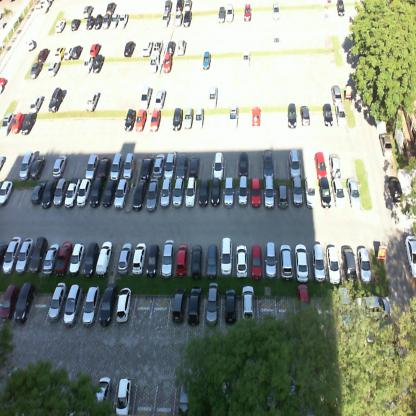car: (354, 294, 390, 320), (61, 289, 86, 326), (80, 287, 102, 325), (46, 290, 69, 326), (96, 288, 118, 324), (336, 286, 353, 332), (94, 375, 113, 414), (354, 240, 374, 277), (114, 289, 136, 322), (168, 291, 189, 325), (13, 289, 36, 320), (145, 240, 165, 275), (324, 242, 342, 280), (202, 293, 221, 329), (16, 235, 34, 273), (3, 235, 20, 275), (0, 284, 18, 320), (28, 236, 46, 272), (41, 239, 60, 273), (68, 240, 87, 274), (115, 377, 132, 415), (76, 176, 94, 210), (144, 177, 162, 211), (293, 243, 311, 277), (53, 241, 72, 273), (187, 292, 204, 327), (82, 240, 100, 273), (40, 176, 58, 209), (340, 241, 356, 278), (296, 284, 311, 323), (88, 174, 105, 208), (278, 244, 295, 278), (310, 242, 326, 278), (178, 372, 191, 416), (160, 241, 177, 274), (174, 243, 191, 276), (241, 284, 255, 324), (203, 241, 218, 278), (170, 176, 186, 210), (188, 242, 204, 276), (263, 243, 279, 277), (344, 176, 362, 206), (234, 241, 249, 277), (65, 176, 81, 209), (113, 177, 129, 210), (156, 178, 172, 211), (132, 240, 148, 273), (217, 242, 233, 275), (100, 178, 116, 210), (96, 244, 113, 274), (248, 240, 263, 274), (316, 177, 332, 208), (18, 151, 34, 182), (386, 175, 404, 202), (314, 148, 330, 178), (118, 242, 134, 272), (52, 176, 68, 205), (224, 286, 236, 324), (133, 177, 146, 212), (84, 153, 101, 179), (406, 232, 416, 276), (330, 179, 345, 208), (197, 179, 211, 210), (288, 180, 304, 207), (48, 87, 64, 114), (122, 106, 137, 134), (288, 147, 302, 177), (235, 179, 249, 209), (262, 178, 276, 208), (276, 179, 290, 209), (96, 154, 112, 180), (328, 148, 342, 177), (209, 180, 223, 209), (304, 178, 317, 209), (122, 155, 138, 180), (332, 101, 347, 127), (186, 152, 201, 178), (109, 155, 125, 179), (20, 112, 36, 136), (379, 131, 393, 158), (184, 179, 196, 210), (133, 108, 147, 134), (149, 154, 163, 180), (138, 155, 153, 179), (263, 147, 275, 177), (249, 179, 261, 209), (30, 179, 45, 203), (84, 89, 99, 113), (150, 106, 163, 133), (164, 152, 178, 177), (210, 152, 224, 177), (224, 179, 236, 208), (30, 156, 45, 179), (174, 153, 188, 177), (51, 154, 67, 175), (28, 92, 44, 113), (1, 112, 15, 136), (194, 107, 206, 133), (206, 84, 218, 110), (10, 113, 24, 135), (237, 152, 249, 177), (140, 84, 152, 108), (321, 104, 334, 126), (1, 178, 12, 204), (298, 105, 310, 128), (184, 106, 194, 133), (174, 108, 184, 134), (330, 84, 343, 104), (252, 105, 262, 130), (29, 61, 42, 80), (228, 106, 239, 128), (286, 105, 297, 126), (155, 87, 166, 108), (83, 55, 94, 76), (162, 54, 172, 76), (142, 39, 153, 58), (48, 61, 61, 77), (242, 47, 251, 70), (243, 1, 252, 23), (124, 40, 135, 58), (53, 45, 65, 61), (92, 55, 104, 71), (25, 32, 35, 51), (149, 55, 158, 76), (176, 39, 187, 56), (182, 10, 192, 28), (160, 10, 170, 28), (54, 19, 66, 34), (152, 39, 163, 55), (202, 50, 211, 69), (273, 31, 281, 52), (93, 14, 104, 29), (217, 6, 226, 24), (174, 10, 183, 28), (336, 0, 346, 16), (226, 4, 234, 24), (71, 45, 82, 59), (89, 44, 100, 58), (166, 41, 176, 56), (118, 12, 128, 27), (273, 2, 281, 20), (63, 45, 72, 61), (110, 13, 119, 29), (104, 2, 116, 14), (70, 18, 81, 31), (85, 16, 95, 30), (83, 4, 93, 18), (102, 13, 110, 30), (35, 4, 47, 14), (164, 0, 172, 12), (39, 0, 51, 8), (176, 1, 184, 12), (184, 1, 192, 12), (0, 77, 7, 86)
